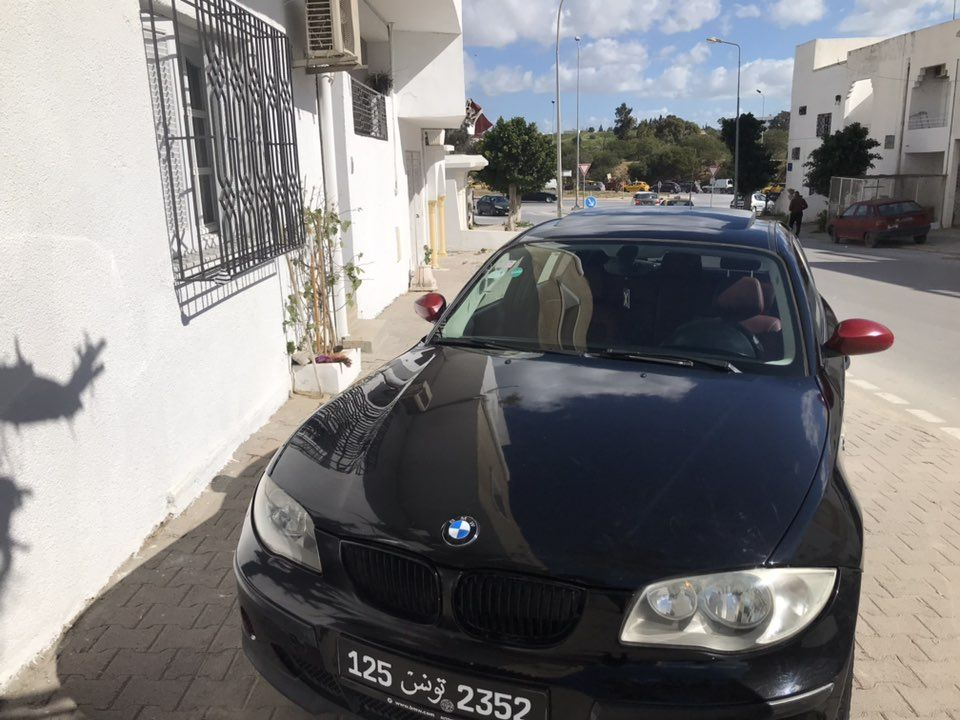LP: (335, 635, 549, 720)
